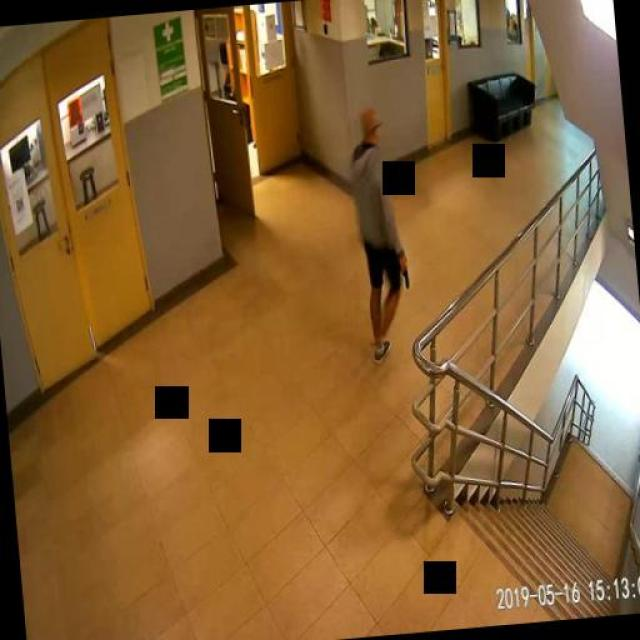gun: (396, 252, 409, 288)
